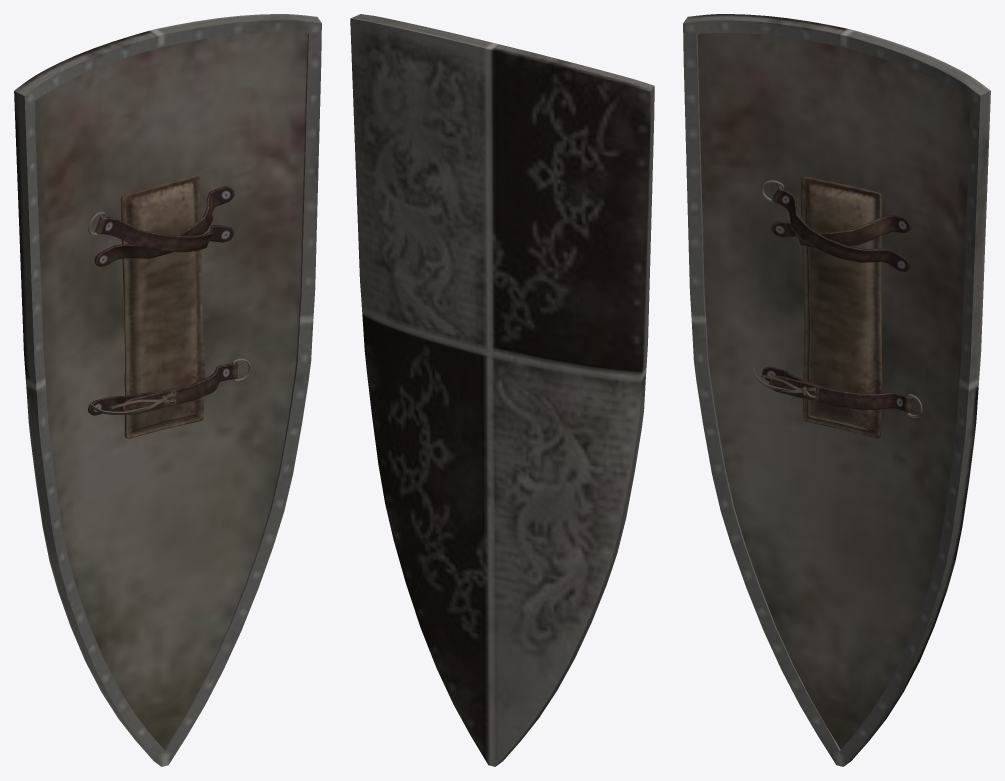
The model's file is weapon-wp_a_2002.glb.
3 views of the same model, side by side, from view 1: azimuth 30°, elevation 25°; view 2: azimuth 150°, elevation 25°; view 3: azimuth 330°, elevation 25° (orthographic).
Visible parts, largest first — view 1: wp_a_2002_mesh; view 2: wp_a_2002_mesh; view 3: wp_a_2002_mesh.
Part boxes in pixels (bbox=[...]): wp_a_2002_mesh: bbox=[14, 14, 321, 766]; wp_a_2002_mesh: bbox=[350, 14, 654, 766]; wp_a_2002_mesh: bbox=[683, 14, 990, 766].
Size of the model in its own units: 0.4309 by 0.9882 by 0.0751.
Materials: 4 (4 with a texture image).
